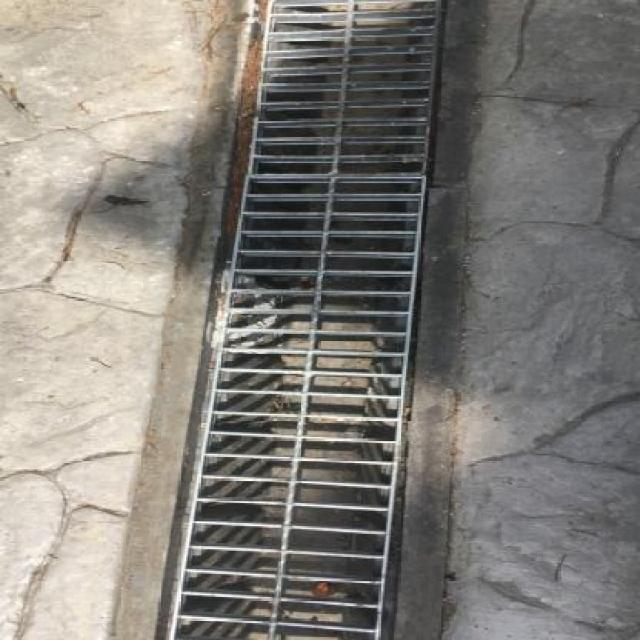Drain Hole: (86, 26, 477, 346)
